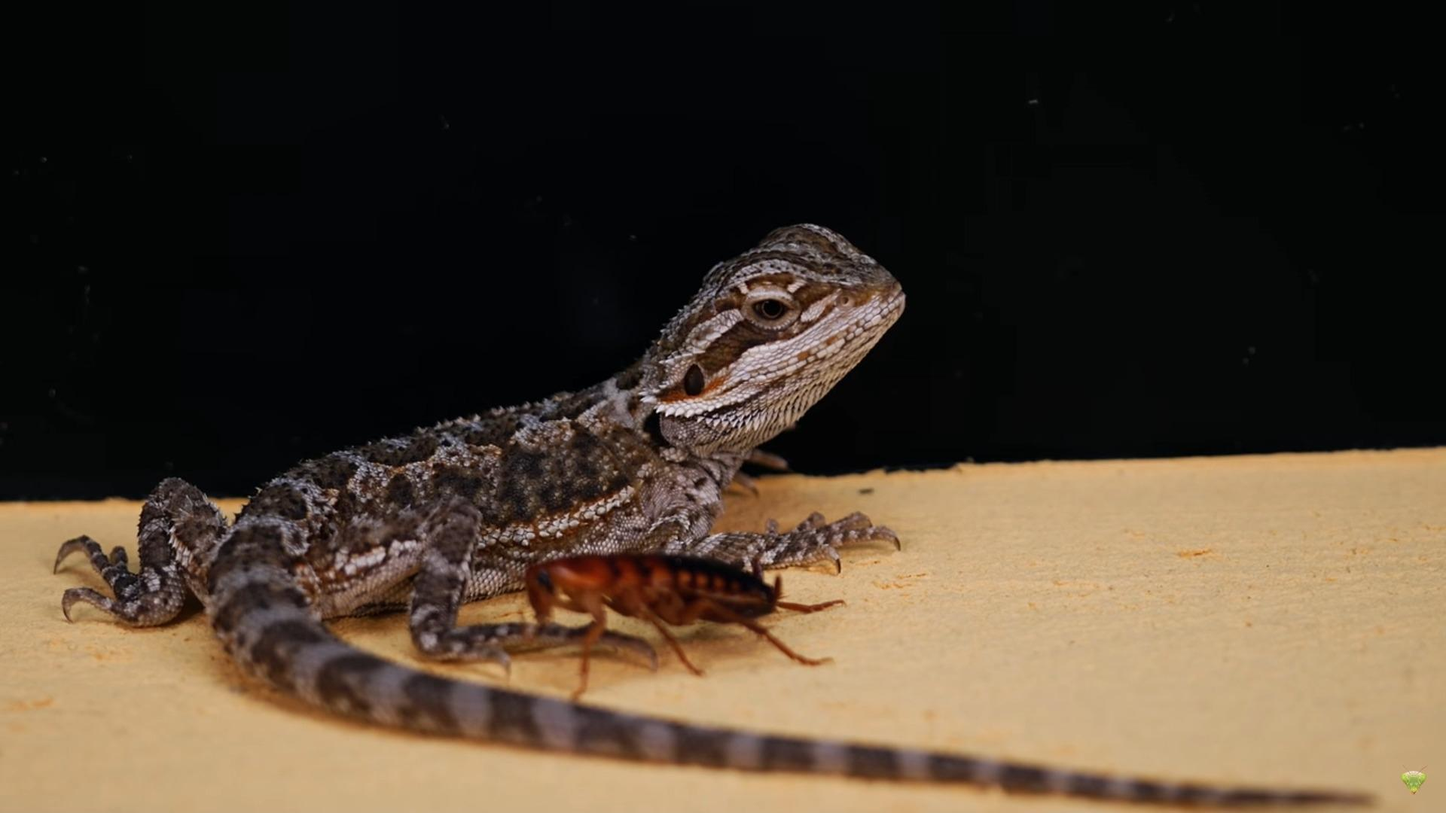cockroach: (501, 531, 845, 698)
lizard: (73, 215, 1028, 791)
